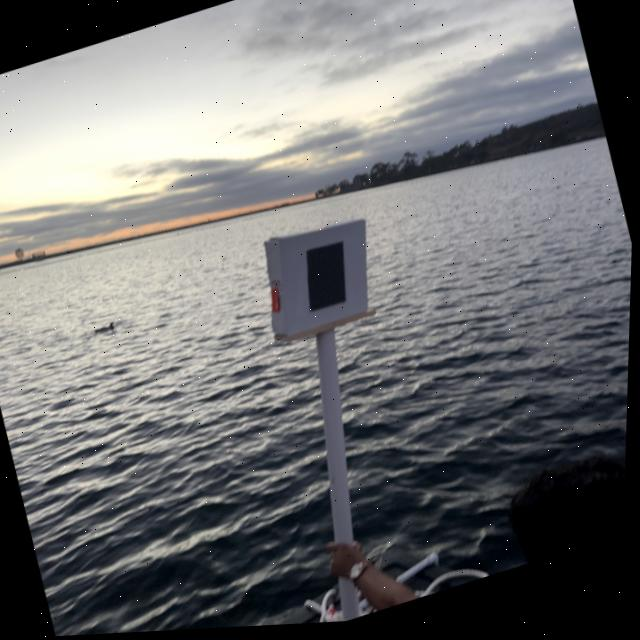led: (275, 222, 374, 339)
